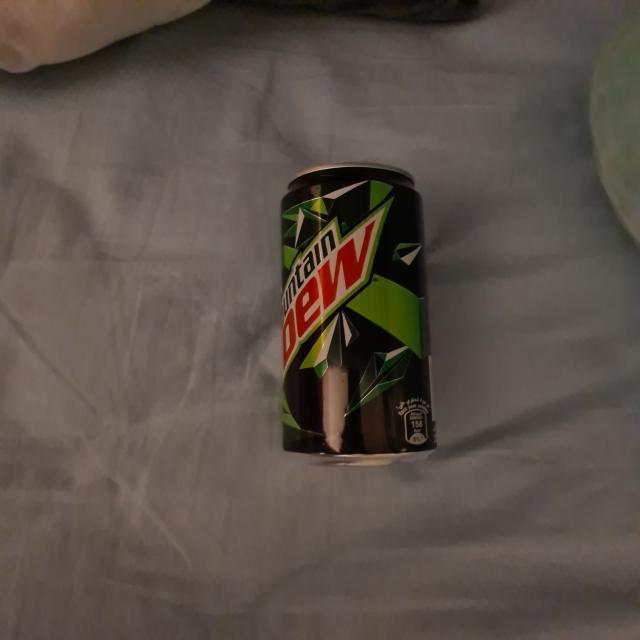can: (280, 162, 440, 470)
